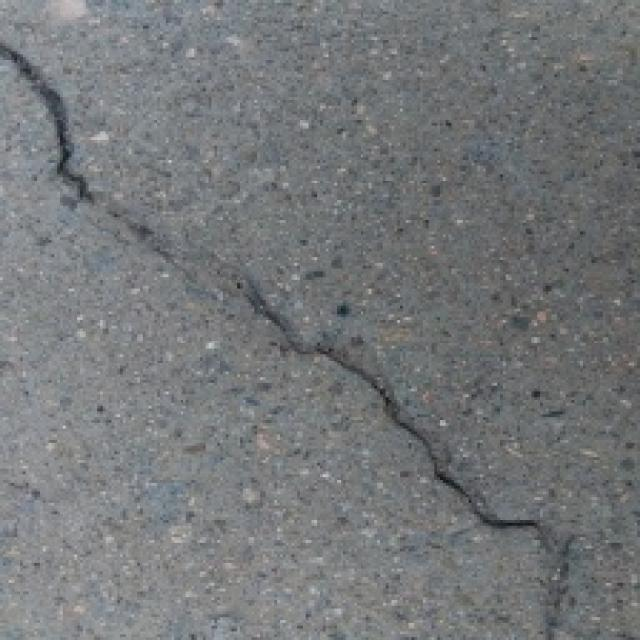crack: (0, 32, 596, 640)
